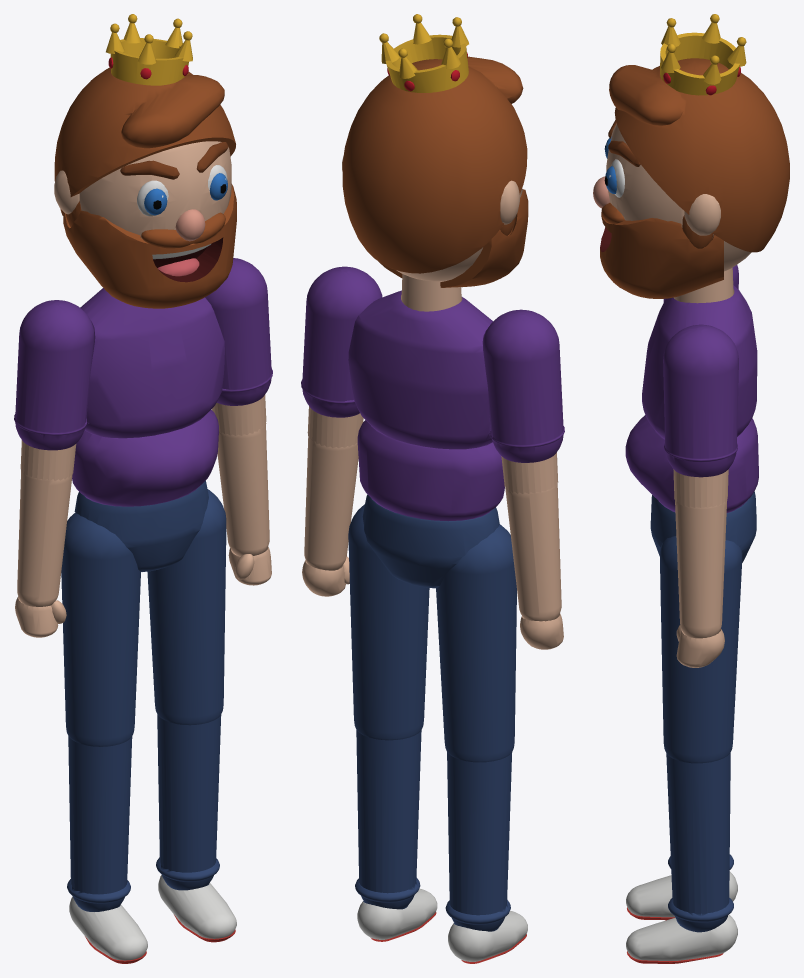
File: fb_king_klinker.glb
The picture shows the model from 3 angles, left to right: view 1: azimuth 30°, elevation 25°; view 2: azimuth 150°, elevation 25°; view 3: azimuth 270°, elevation 25°; orthographic projection.
Visible parts, largest first — view 1: creature; view 2: creature; view 3: creature.
Boxes of the visible parts, box(x1,y1,x2,y2) form: creature: box(14, 14, 272, 963); creature: box(301, 14, 564, 963); creature: box(593, 14, 789, 963).
Bounding box in the file's own units: 0.2874 × 1 × 0.1948.
